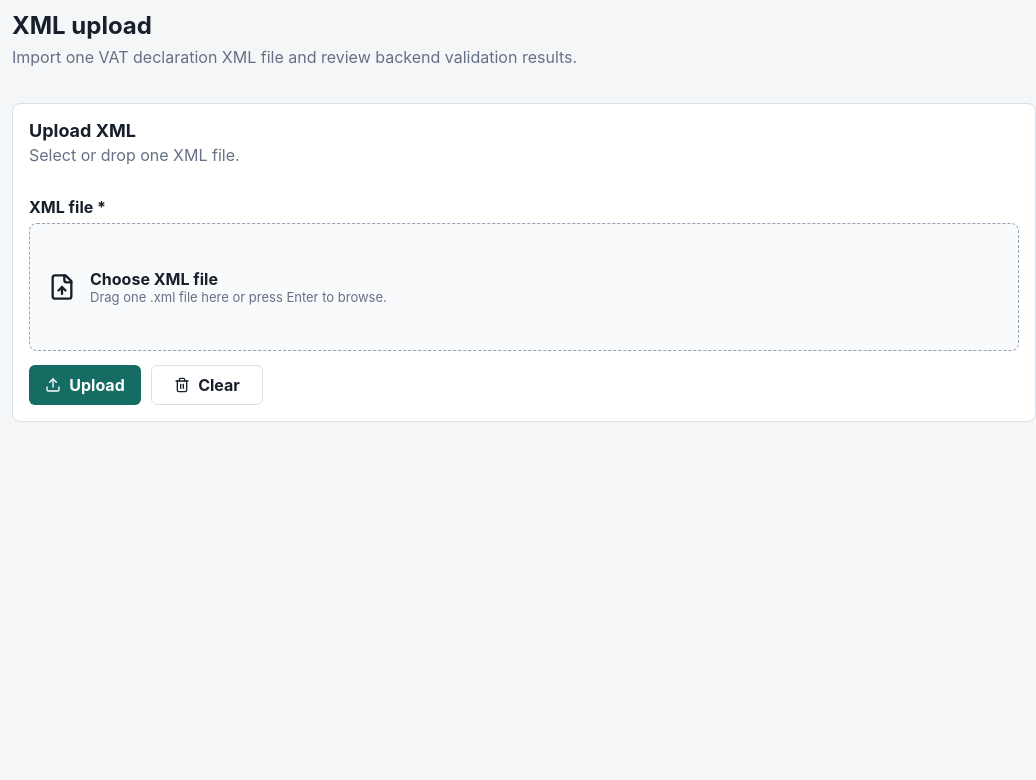
Test: UploadPage › shows required file error when upload is clicked without a file
Click the button "Upload" at (85, 385), box [29, 365, 141, 405]
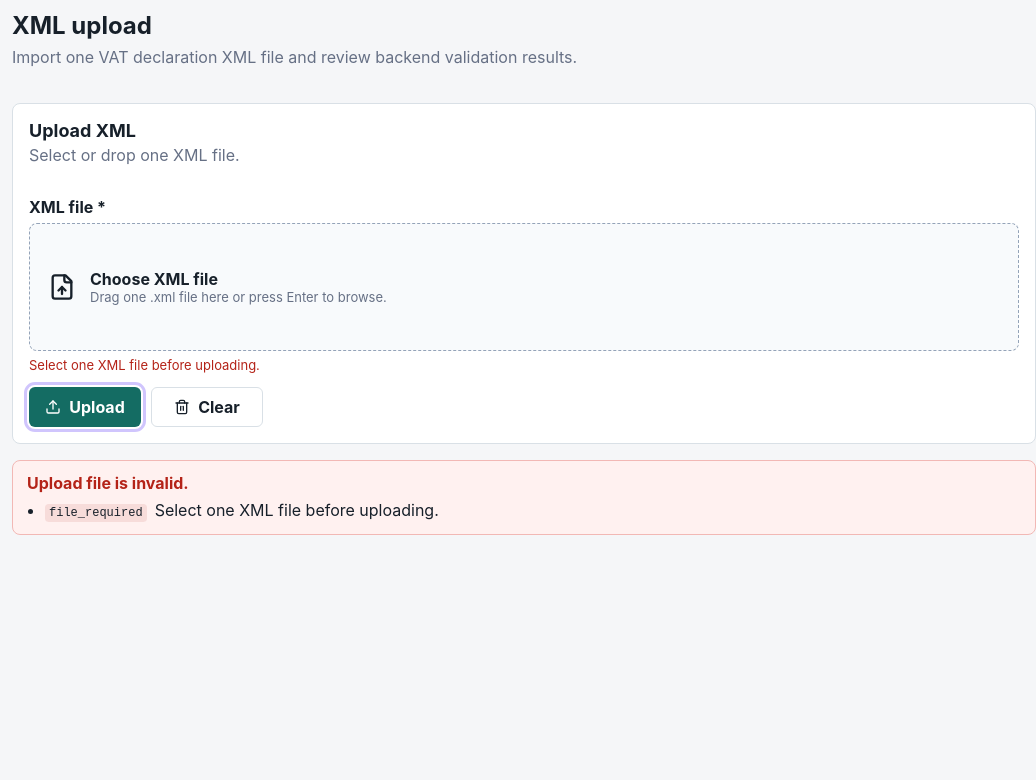
Expected: the text "Select one XML file before uploading." below "Select or drop one XML file." is shown, [29, 357, 260, 373]
